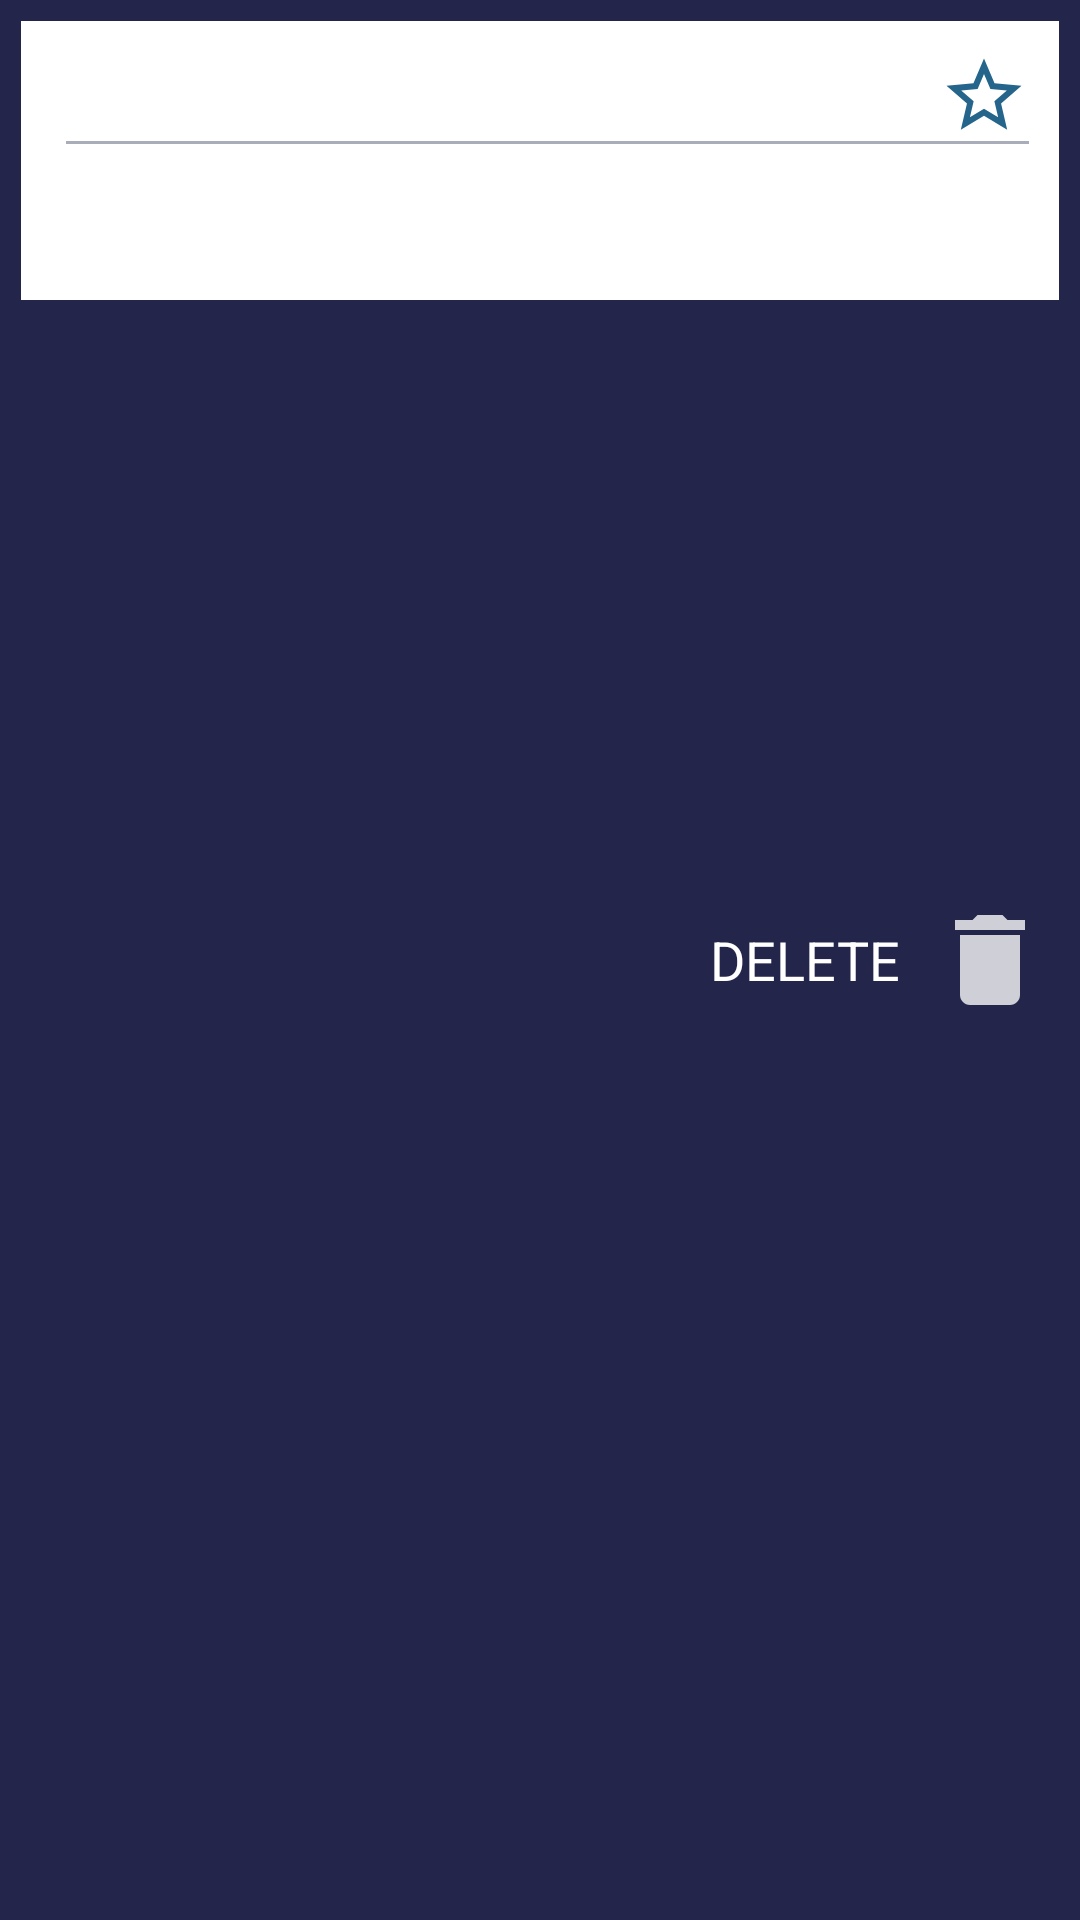

Where to tap for icons on this 1080 x 1920 app screen, as (x,y):
star border: (984,94)
